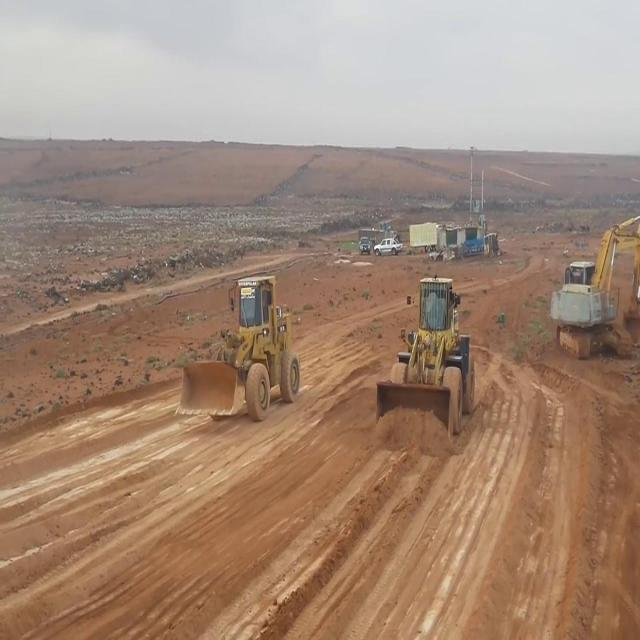Excavator: (550, 211, 640, 360)
Loader: (178, 273, 302, 423), (374, 276, 474, 440)
